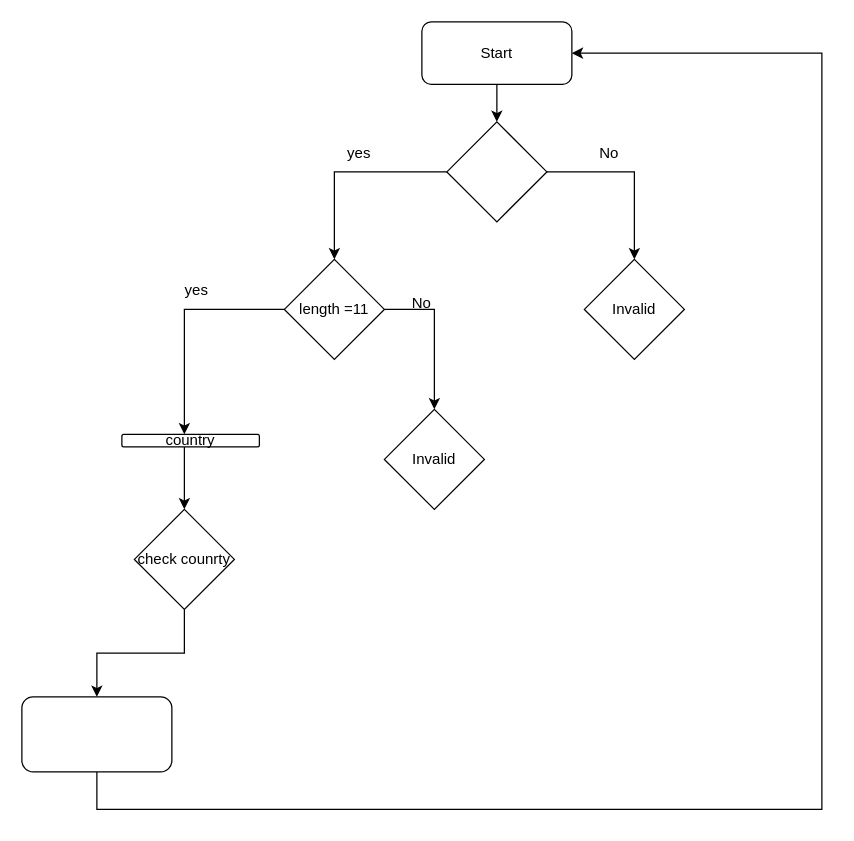
Some shapes in this 854 by 841 pixel diagram are drawn without their labels. The shapes that lost their labels are listed below. From the top down, each one's box as (x1, y1, x2, y2) in pixels, then its label:
(446, 121, 547, 222): is number
(21, 696, 172, 772): standard number
